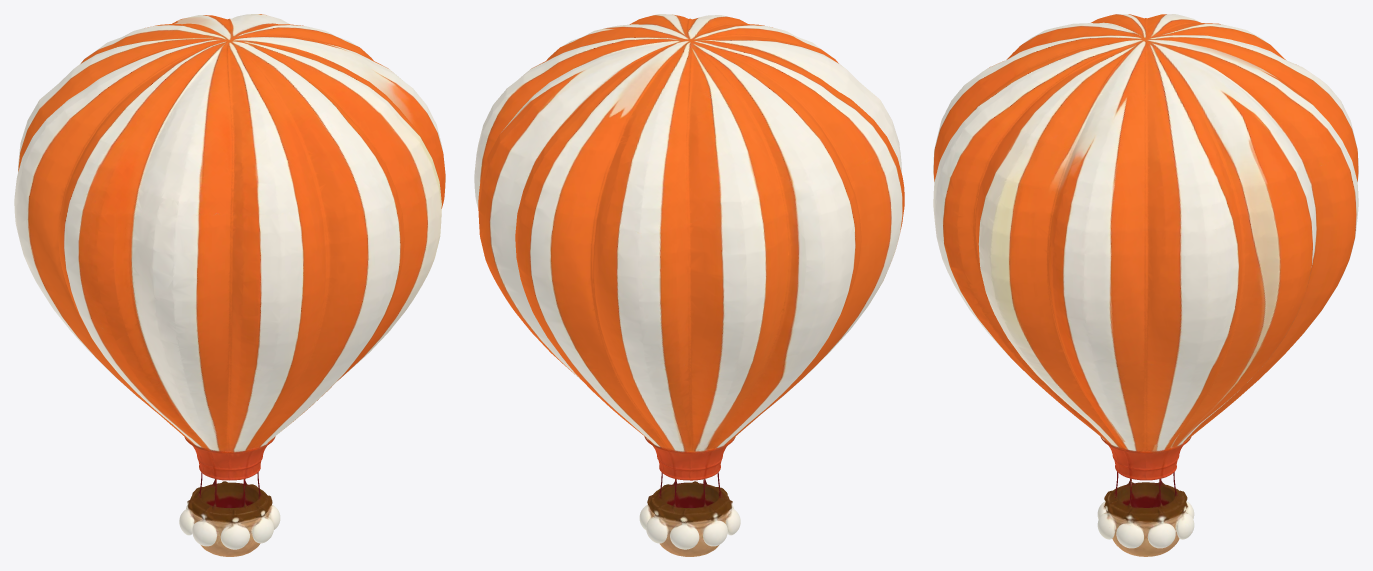
File: Mongolfiera.glb
3 renders of one model, left to right at view 1: azimuth 30°, elevation 25°; view 2: azimuth 150°, elevation 25°; view 3: azimuth 270°, elevation 25°, orthographic.
Bounding box in the file's own units: 1.43 × 1.9 × 1.43.
1 material, 1 textured.
